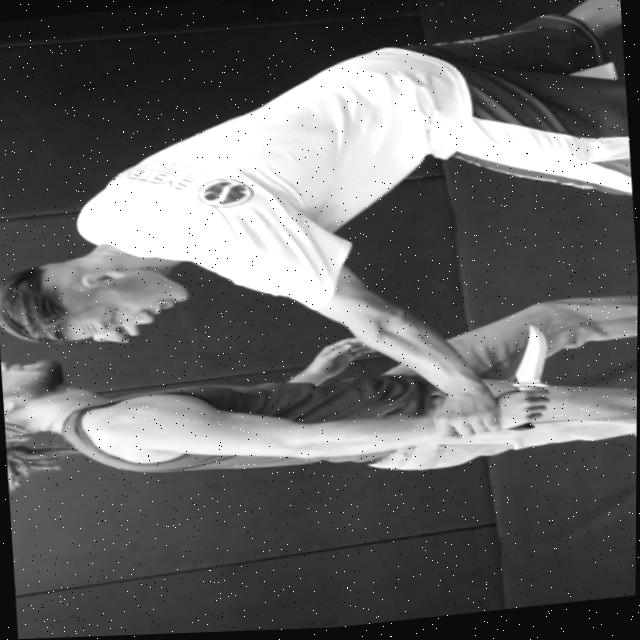knife: (498, 325, 554, 398)
